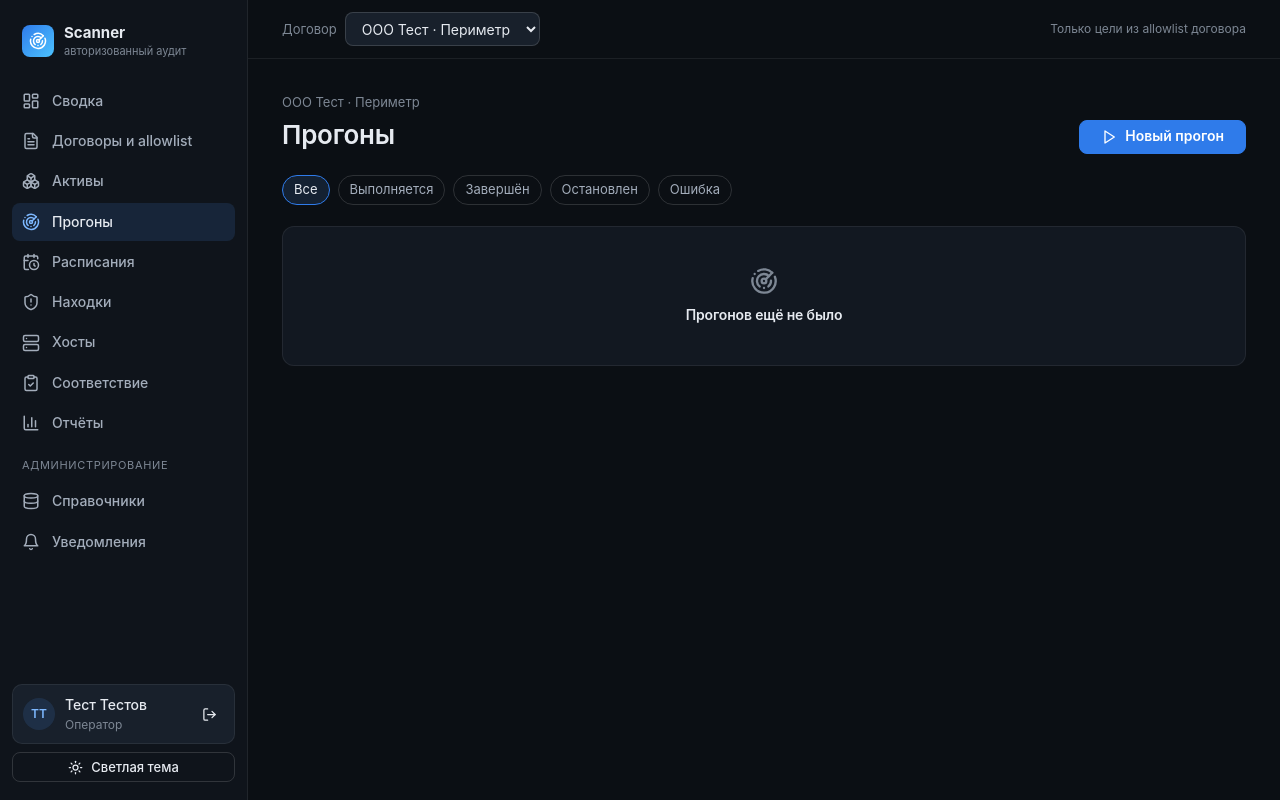
Test case: модуль cred_audit в форме запуска › виден при наличии права
The image size is (1280, 800).
Click the button "Новый прогон" at point(1163, 136), box [1079,120,1246,154]
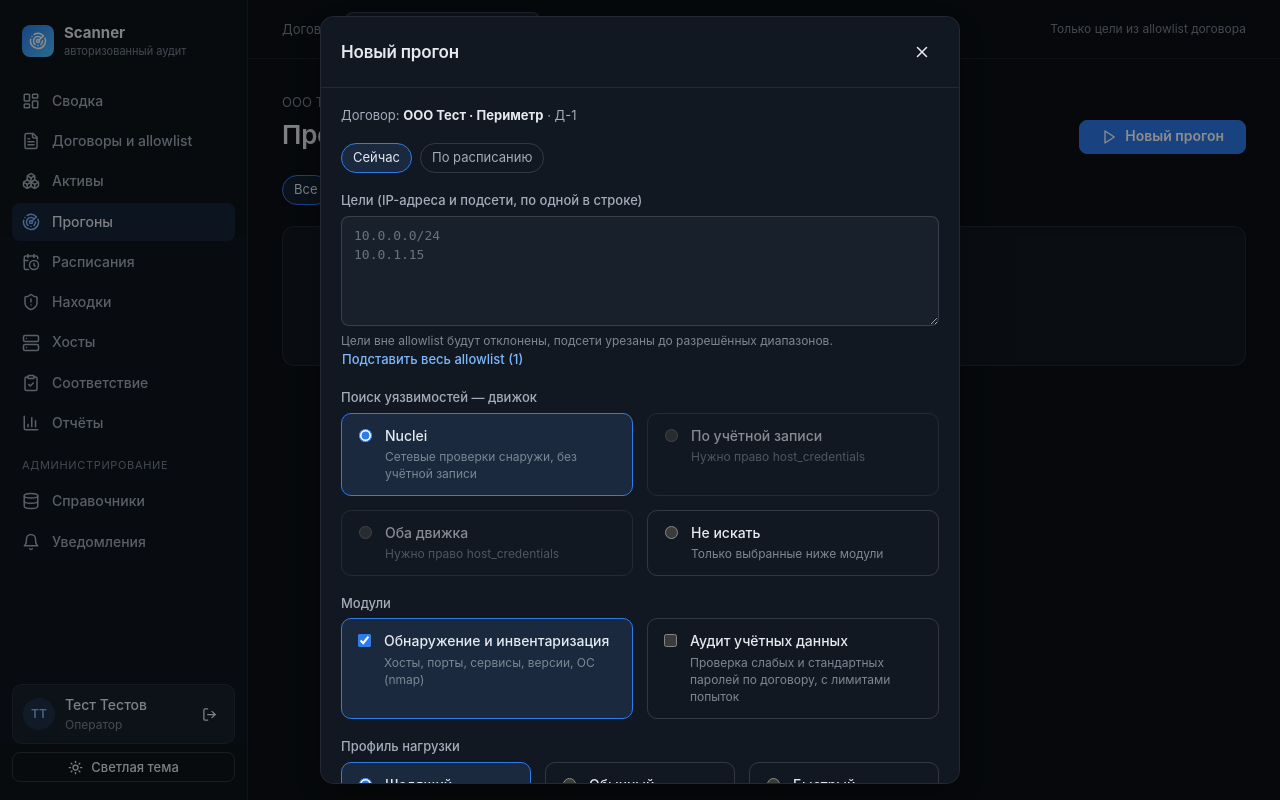
Expected: the text "Аудит учётных данных" is shown, [690,632,848,649]
